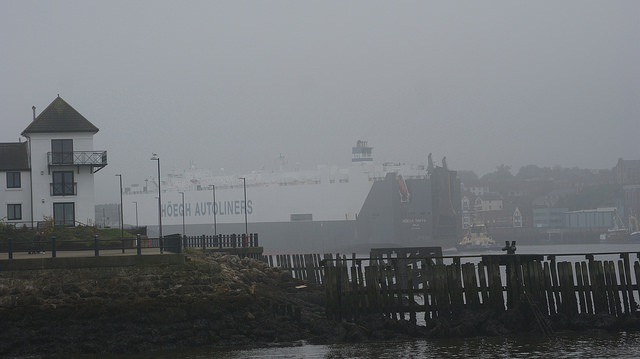PCC: (121, 143, 467, 233)
